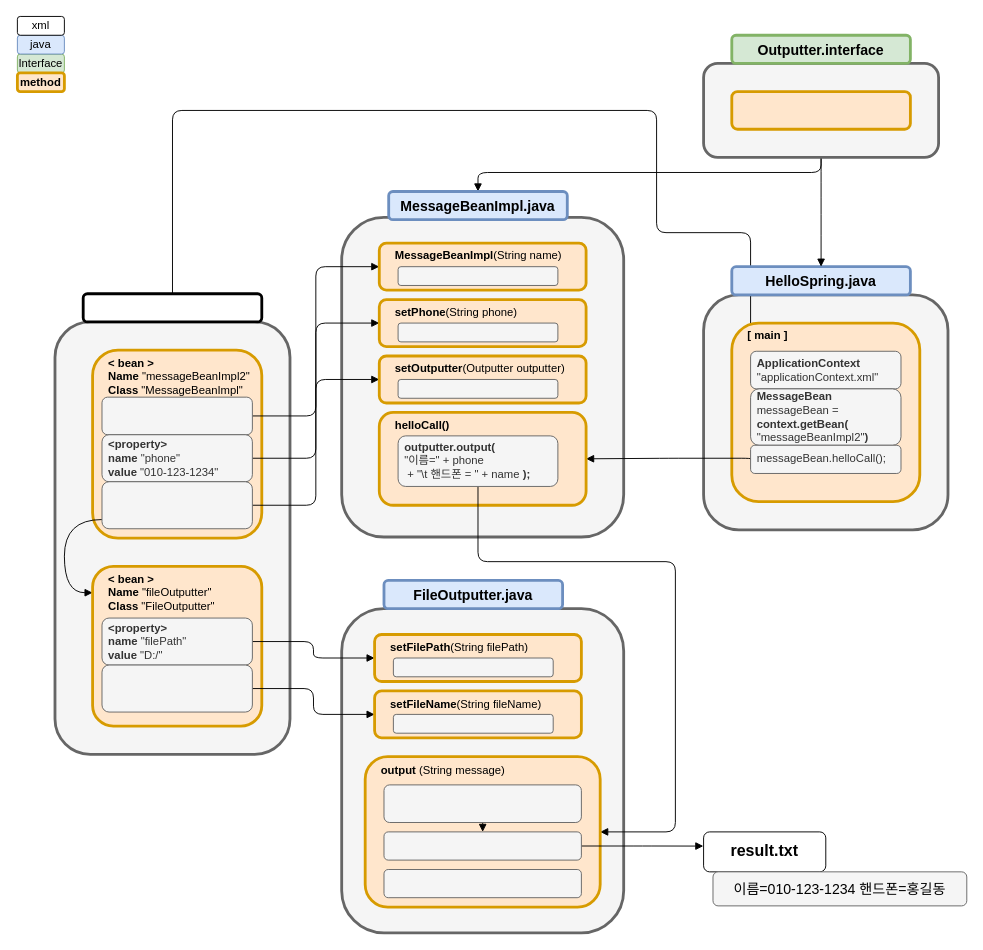
The diagram is 983 pixels wide and 950 high, and some of its shapes have lost their labels. Each missing label, with the centre of its shape:
<constructor-arg> value "홍길동": the point at 176,415
<property> name "filePath" value "result.txt": the point at 176,688
<property> name "outputter" ref "fileOutputter": the point at 176,505
applicationContext.xml: the point at 172,307
FileWriter fileWriter = new FileWriter( filePath + fileName );: the point at 482,803
fileWriter.close();: the point at 482,883
fileWriter.write( message );: the point at 482,845
public void output( String message ): the point at 820,110
this.fileName = fileName;: the point at 472,723
this.filePath = filePath;: the point at 472,667
this.name = name;: the point at 477,275
this.outputter = outputter;: the point at 477,388
this.phone= phone;: the point at 477,332
